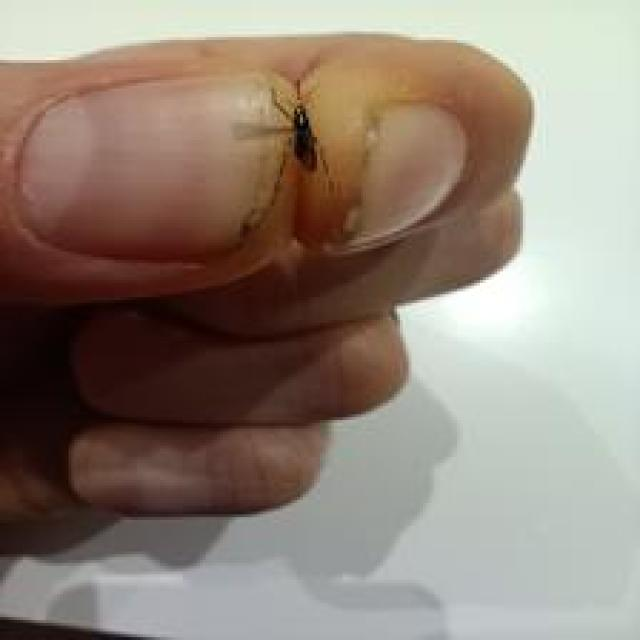Aedes albopictus: (267, 80, 333, 183)
